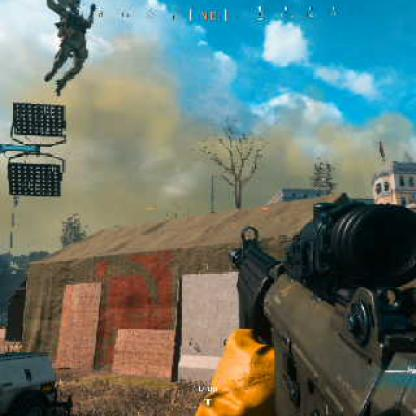enemy: (43, 1, 97, 95)
